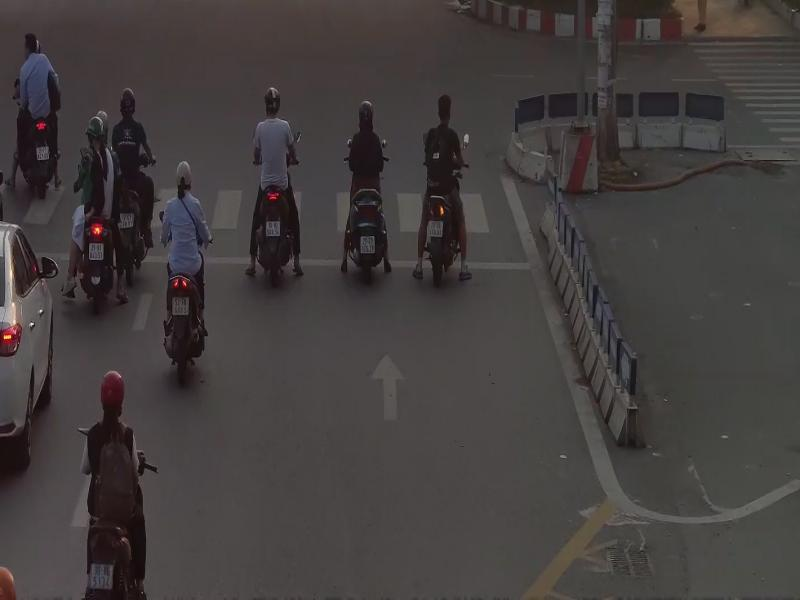helmet: (100, 370, 126, 407), (85, 116, 105, 141), (264, 86, 281, 113), (176, 160, 192, 187), (120, 87, 136, 113), (359, 100, 374, 120), (96, 110, 109, 132)
license_plate: (90, 562, 114, 590), (172, 294, 190, 315), (88, 242, 104, 261), (428, 219, 444, 238), (265, 219, 281, 237), (360, 235, 375, 254), (118, 212, 133, 229), (35, 144, 49, 161)
motorcyclist: (78, 369, 158, 600), (63, 110, 129, 312), (159, 160, 213, 382), (245, 87, 304, 287), (413, 93, 472, 288), (340, 100, 392, 281), (112, 87, 156, 286), (13, 32, 62, 200)
